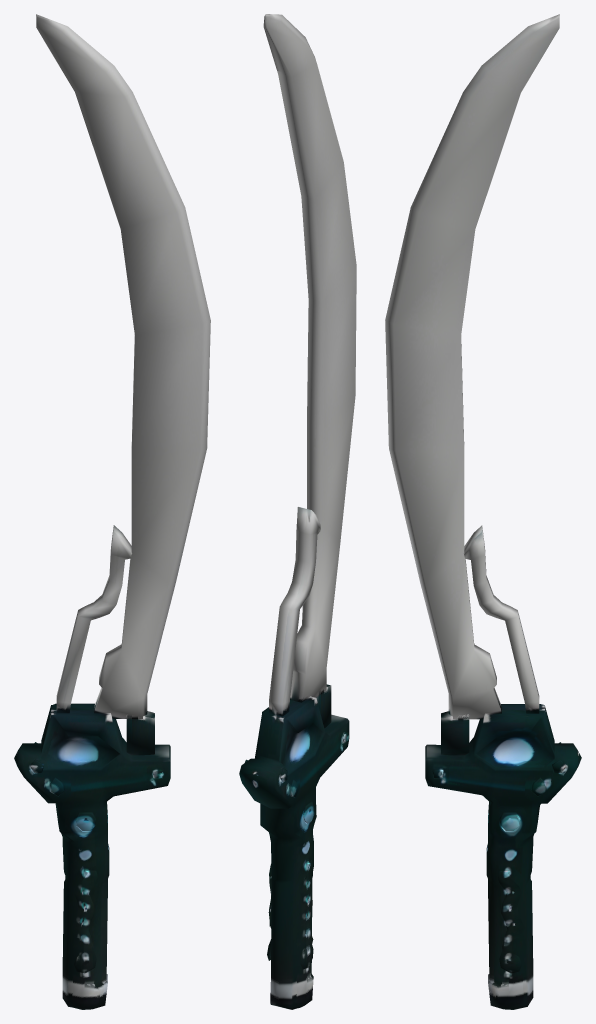
File: rune_blade.glb
3 views of the same model, side by side, from view 1: azimuth 90°, elevation 25°; view 2: azimuth 150°, elevation 25°; view 3: azimuth 270°, elevation 25° (orthographic).
Parts seen in each view (by area): view 1: rune_blade; view 2: rune_blade; view 3: rune_blade.
Boxes of the visible parts, x1,y1,x2,y2 form: rune_blade: (14,14,210,1009); rune_blade: (239,14,356,1009); rune_blade: (385,14,581,1009).
Bounding box in the file's own units: 0.0401 × 0.9947 × 0.1791.
1 material, 1 textured.
